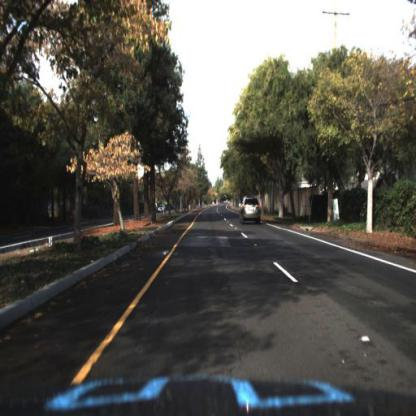car: (238, 194, 264, 227)
